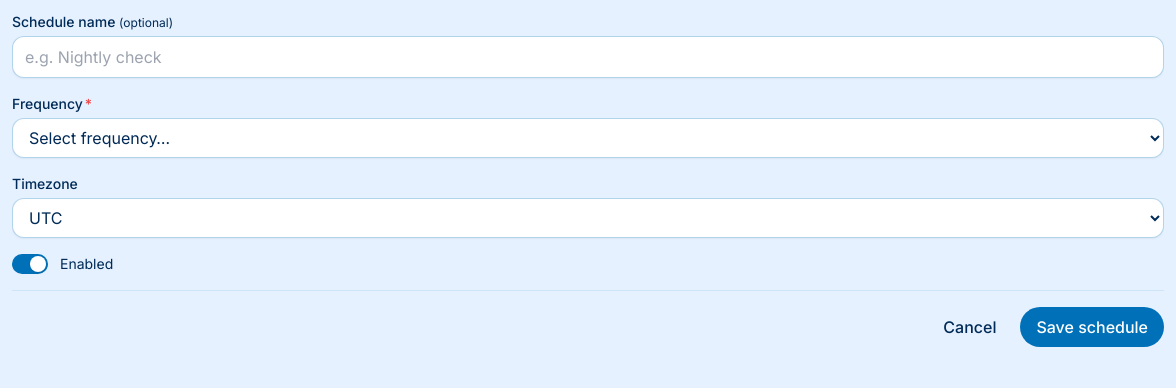
Scenario: ScheduleForm — validation › clears the error after a preset is selected
# Trigger validation error
Click the button "Save schedule": [1092, 327] box [1020, 307, 1164, 347]
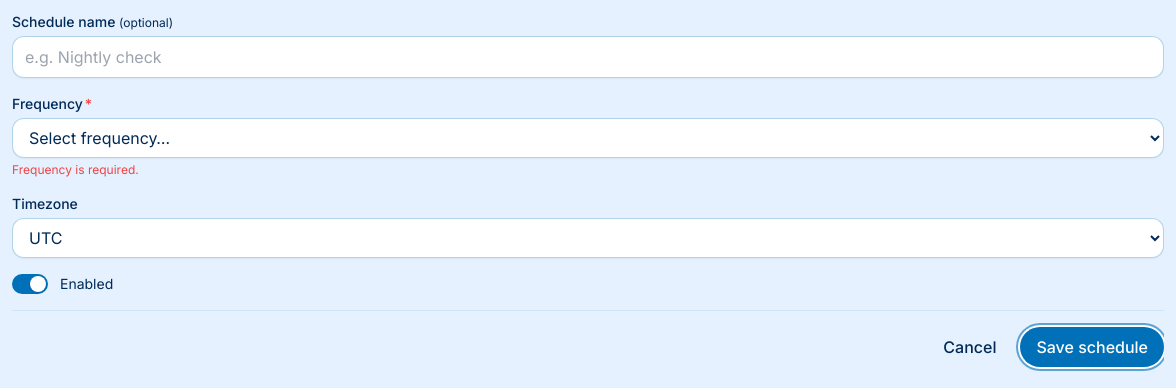
Now the text "Frequency is required." is shown, box [12, 162, 139, 177]
# Select a preset
Select "Hourly" in the dropdown labelled "Frequency*": [588, 138] box [12, 118, 1164, 158]
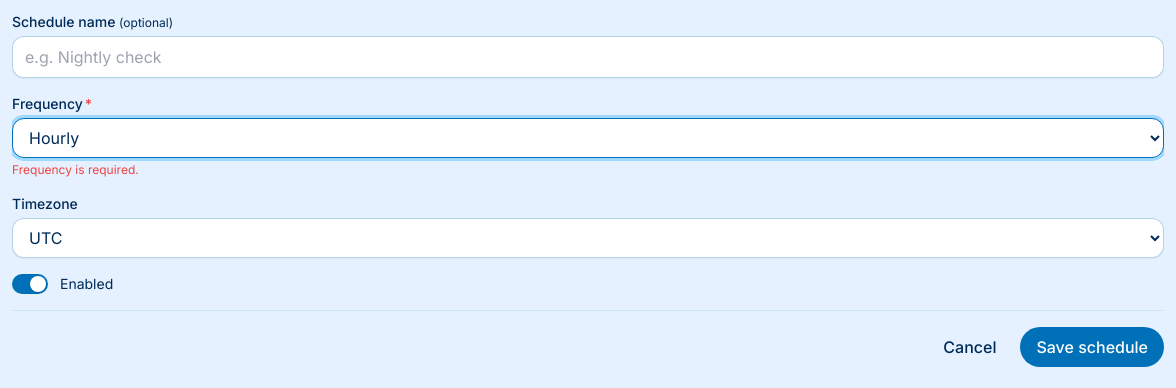
# Submit successfully — the error message should be gone
Click the button "Save schedule": [1092, 347] box [1020, 327, 1164, 367]
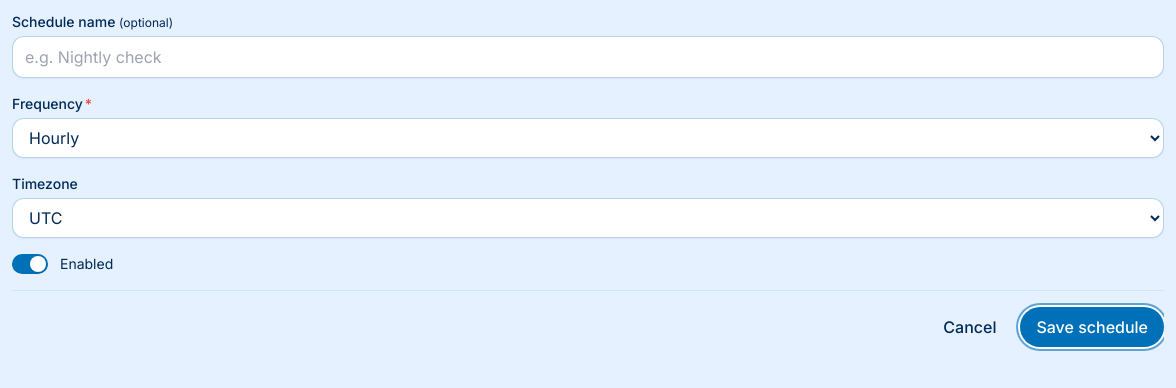
Now the text "Frequency is required" is gone
